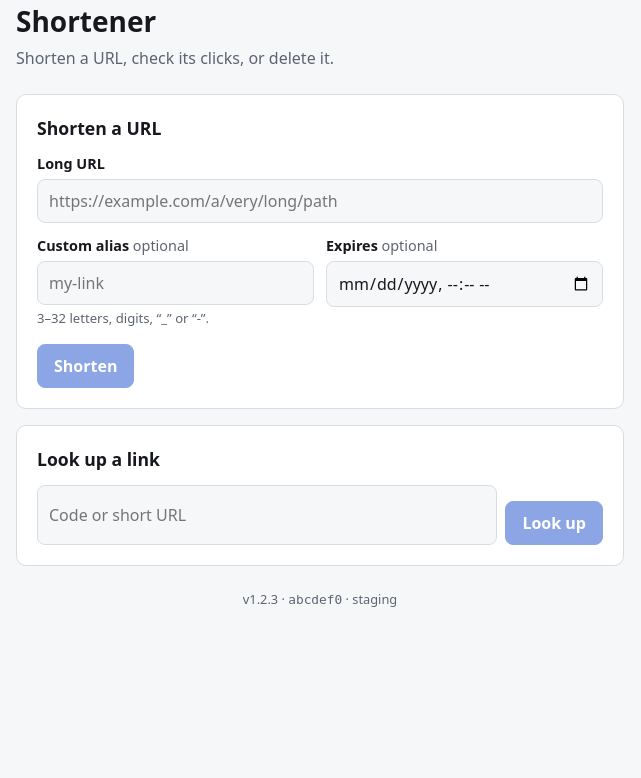
Test case: creating a link › shows the short link and lets you open its stats
This screenshot has width=641, height=778.
Expected: the button "Shorten" is disabled, [37,344,134,388]
Type "https://example.com/landing" into the field labelled "Long URL" at coordinates (320, 201), box [37,179,603,223]
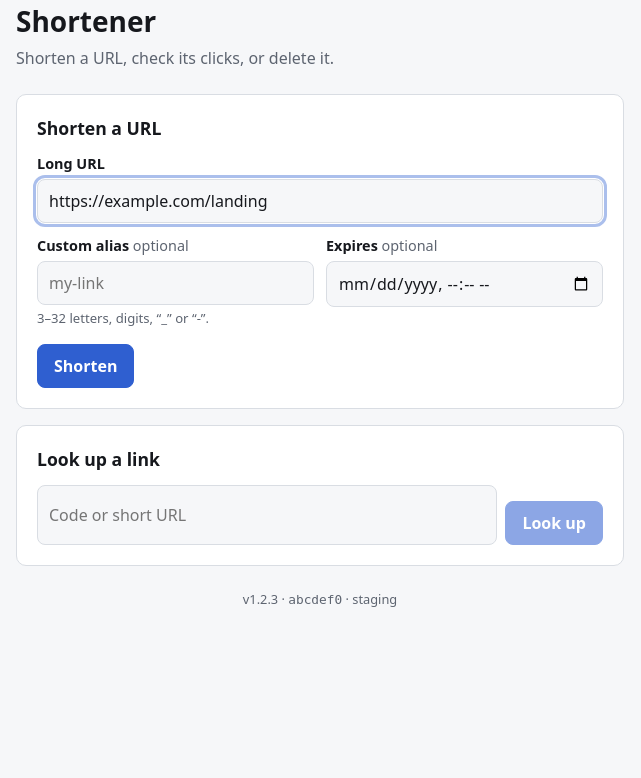
Type "promo" into the field labelled "Custom alias optional" at coordinates (176, 283), box [37,261,314,305]
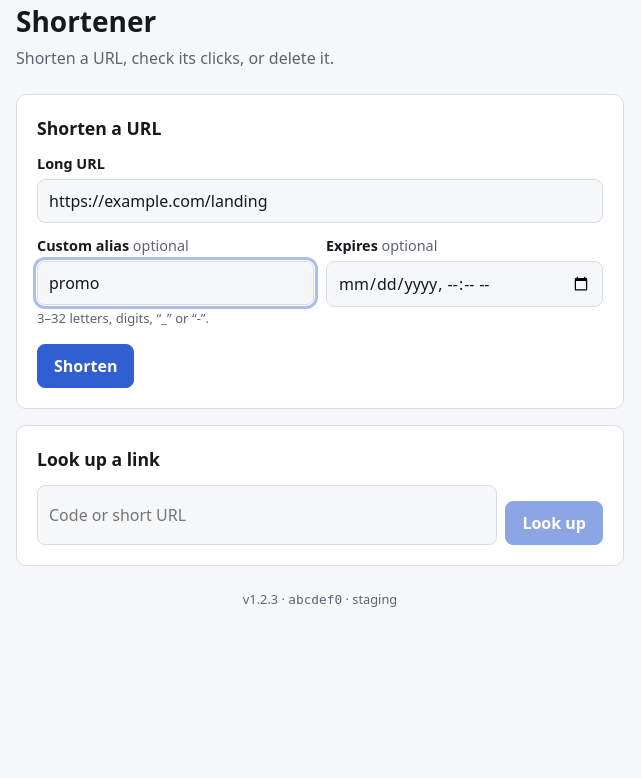
Click the button "Shorten" at coordinates (86, 366), box [37,344,134,388]
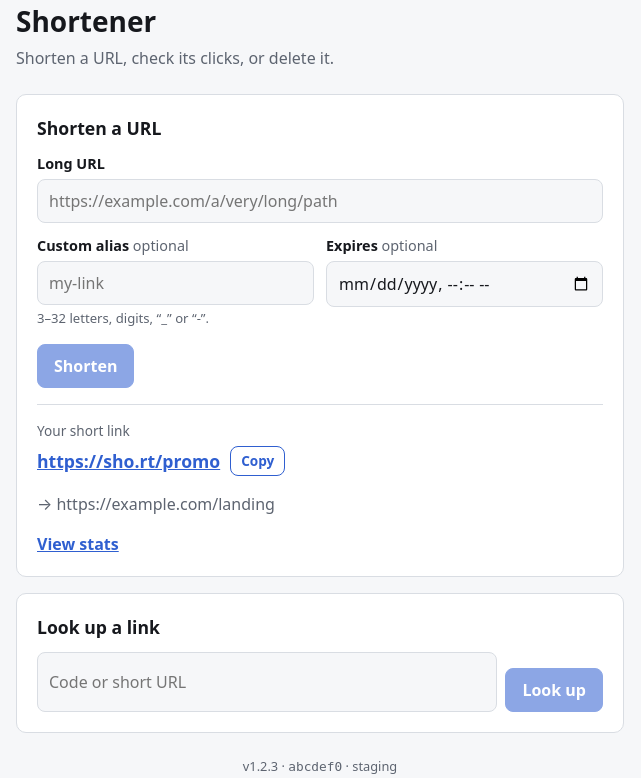
Result: the link "https://sho.rt/promo" is shown at [37,448,220,474]
Result: the field labelled "Long URL" is empty at [37,179,603,223]
Click the button "View stats" at coordinates (78, 544), box [37,532,119,556]
(page scrolled)
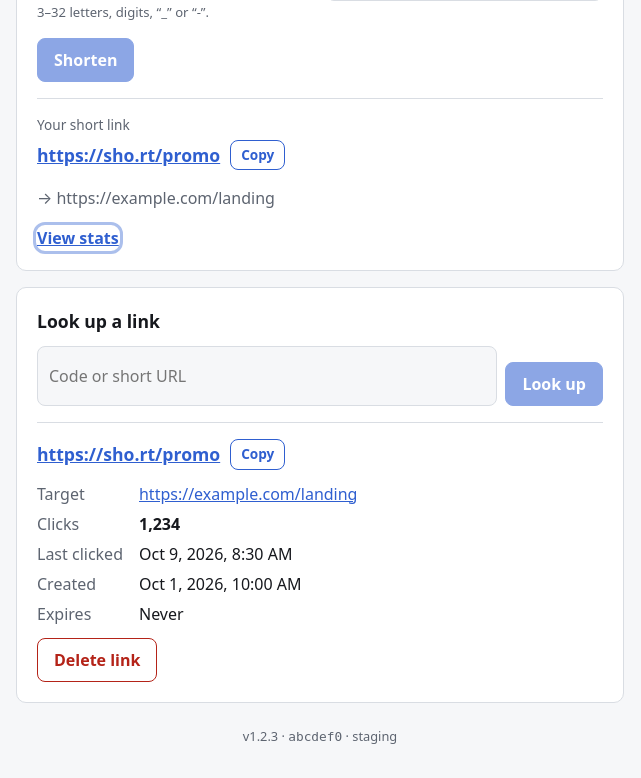
Result: the text "1,234" is shown at [139,513,180,535]
